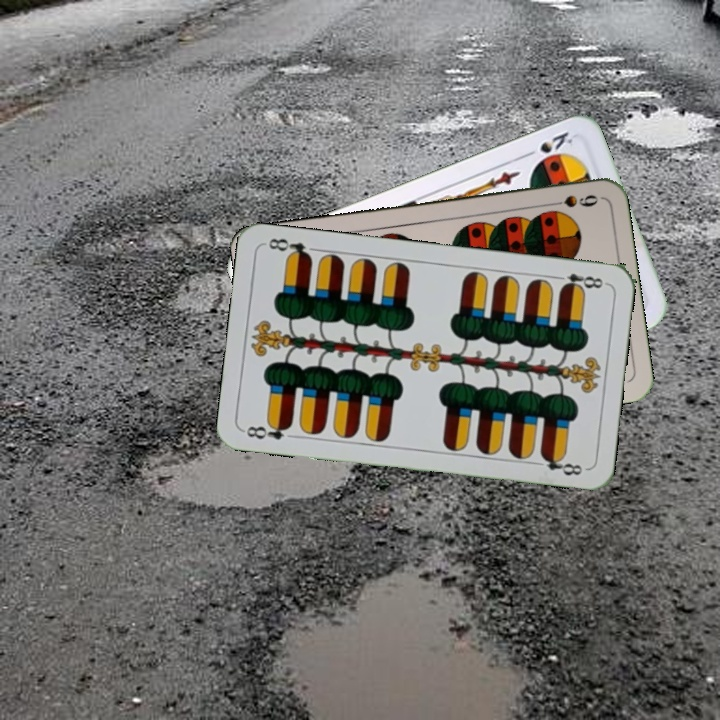E8: (550, 269, 609, 294), (242, 418, 294, 443)
S9: (542, 190, 601, 210)
SK: (520, 127, 576, 160)
